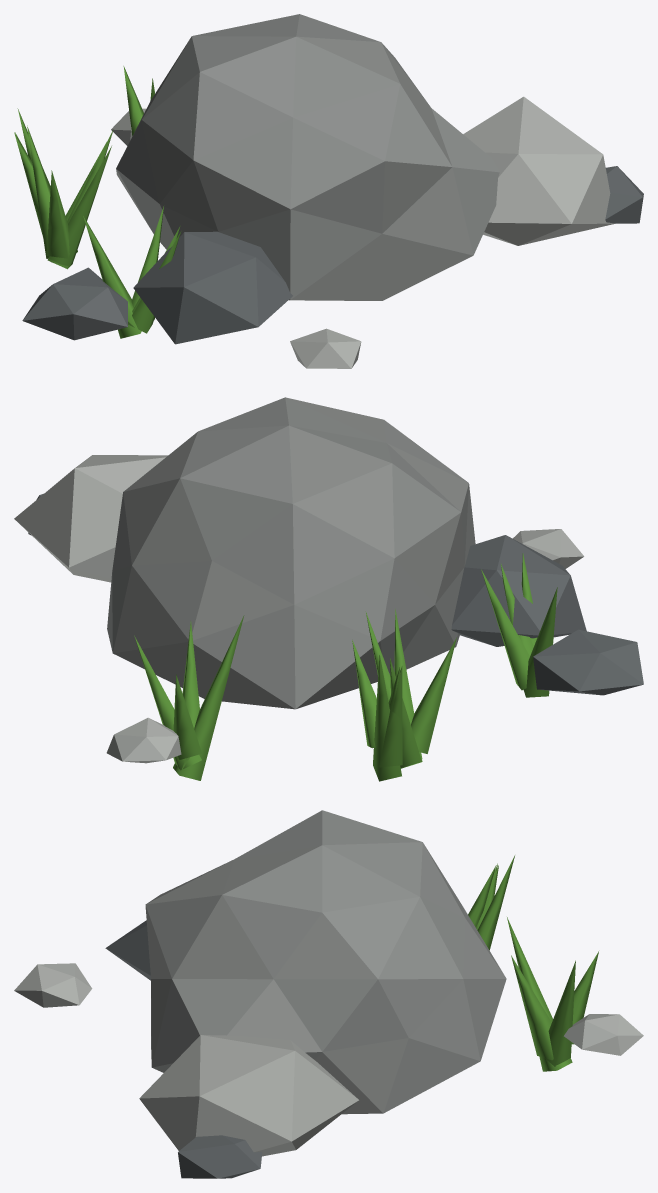
The model's file is RockSmall.glb.
3 renders of one model, top to bottom at view 1: azimuth 30°, elevation 25°; view 2: azimuth 150°, elevation 25°; view 3: azimuth 270°, elevation 25°, orthographic. The views are drawn at different scales.
Parts seen in each view (by area): view 1: Body; view 2: Body; view 3: Body.
Boxes of the visible parts, left/top/right/bottom form: Body: left=14, top=14, right=643, bottom=368; Body: left=14, top=397, right=643, bottom=781; Body: left=14, top=810, right=643, bottom=1178.
Bounding box in the file's own units: 3.07 × 1.17 × 2.81.
Materials: 1 (1 with a texture image).
